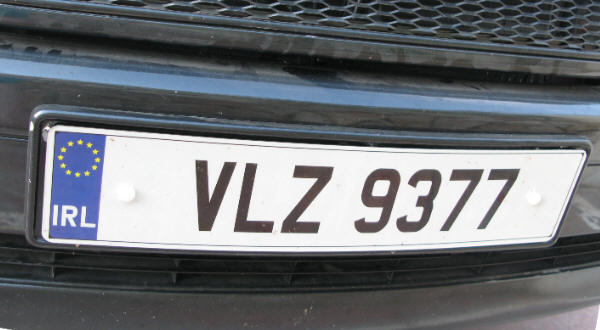license_plate: (42, 123, 587, 252)
